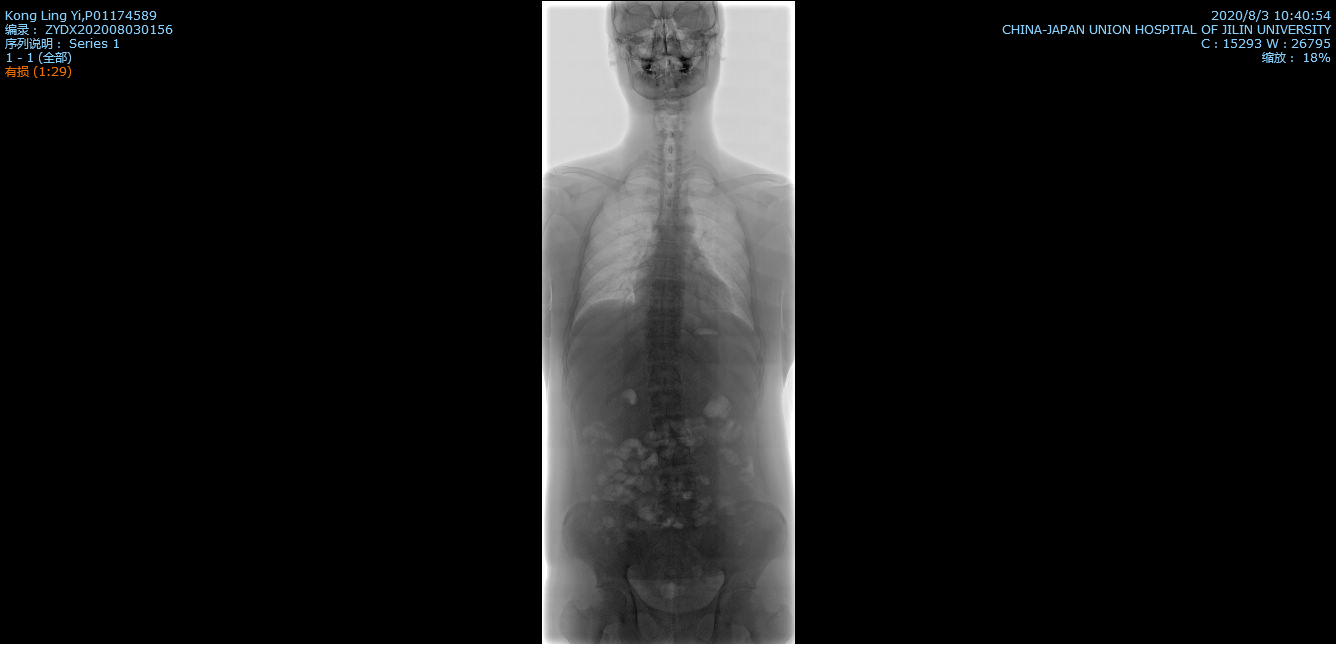胸10椎体: (647, 319, 679, 337)
胸11椎体: (649, 341, 680, 361)
胸12椎体: (649, 366, 682, 386)
胸7椎体: (654, 258, 681, 275)
胸8椎体: (652, 279, 680, 295)
胸9椎体: (649, 297, 682, 315)
腰1椎体: (647, 391, 682, 411)
腰2椎体: (654, 414, 685, 436)
腰3椎体: (654, 445, 692, 466)
腰4椎体: (659, 473, 694, 492)
腰5椎体: (661, 499, 696, 521)
